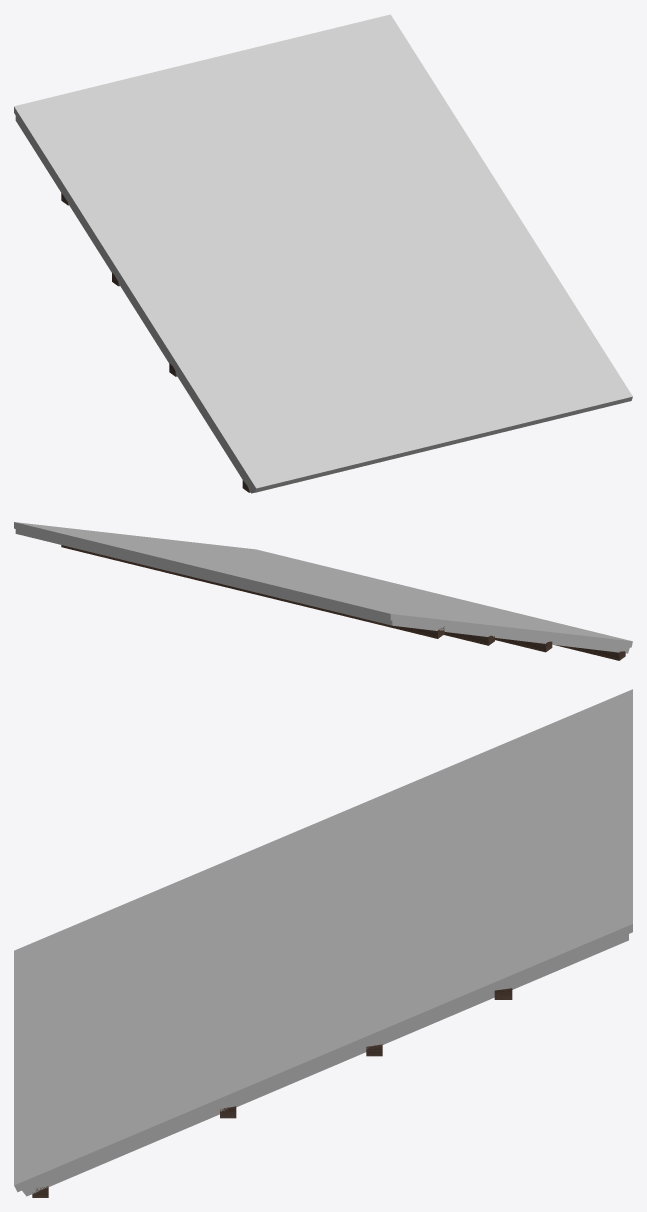
Rendered from kawara_2x4t_a1middle.fbx.
3 renders of one model, top to bottom at view 1: azimuth 30°, elevation 25°; view 2: azimuth 150°, elevation 25°; view 3: azimuth 270°, elevation 25°, orthographic. The views are drawn at different scales.
Visible parts, largest first — view 1: kawara_2x4t_a1middle; view 2: kawara_2x4t_a1middle; view 3: kawara_2x4t_a1middle.
Boxes of the visible parts, box(x1,y1,x2,y2) form: kawara_2x4t_a1middle: box(14, 14, 632, 493); kawara_2x4t_a1middle: box(14, 522, 632, 660); kawara_2x4t_a1middle: box(14, 689, 632, 1197).
Size of the model in its own units: 440 by 239 by 490.
